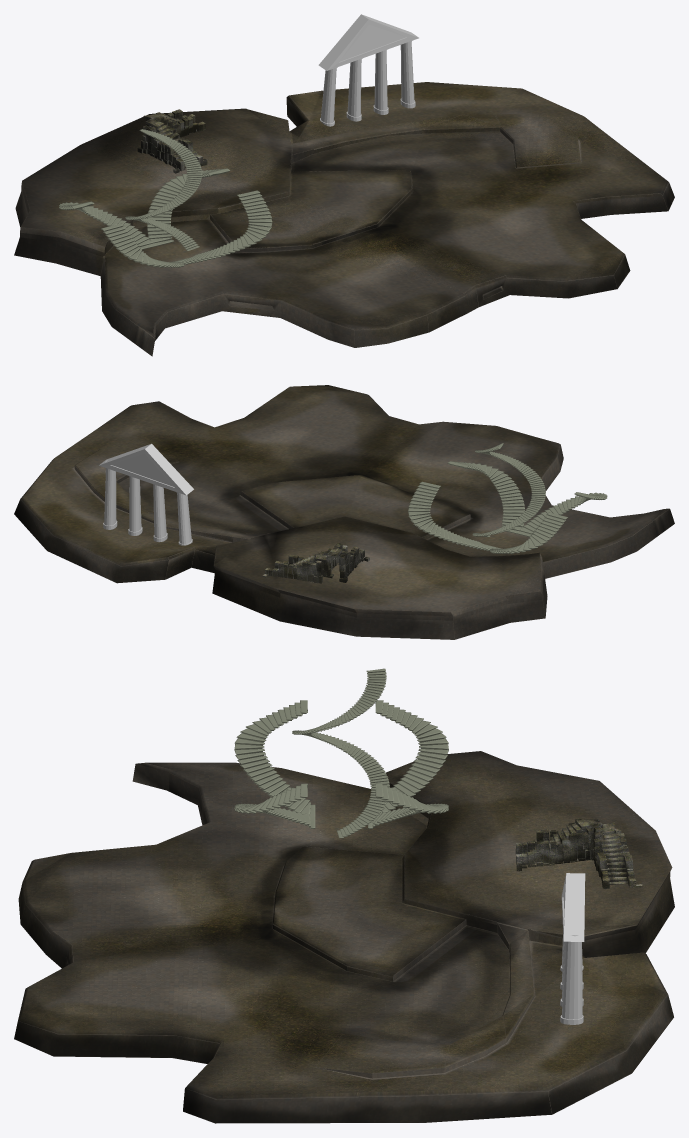
The picture shows the model from 3 angles, top to bottom: view 1: azimuth 30°, elevation 25°; view 2: azimuth 150°, elevation 25°; view 3: azimuth 270°, elevation 25°; orthographic projection. The views are drawn at different scales.
Parts seen in each view (by area): view 1: Cube.088, Cube; view 2: Cube.088, Cube; view 3: Cube.088, Cube.
Boxes of the visible parts, x1=… form: Cube.088: x1=14, y1=82, x2=674, y2=356; Cube: x1=318, y1=14, x2=418, y2=126; Cube.088: x1=14, y1=385, x2=674, y2=639; Cube: x1=99, y1=443, x2=193, y2=545; Cube.088: x1=14, y1=668, x2=674, y2=1123; Cube: x1=560, y1=873, x2=585, y2=1024.
Bounding box in the file's own units: 4077 × 954 × 3330.
